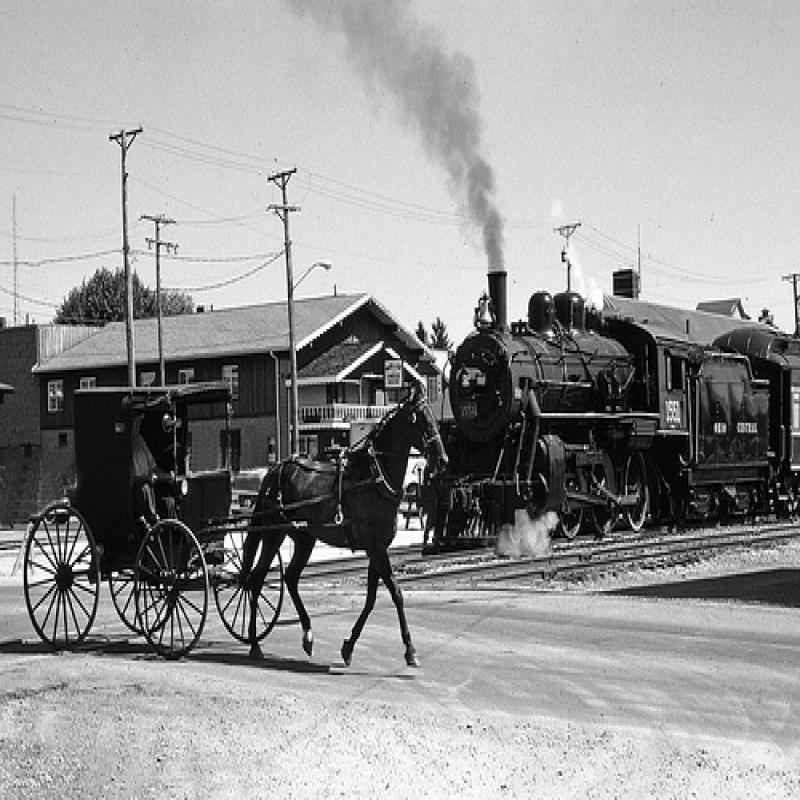train: (424, 270, 800, 570)
